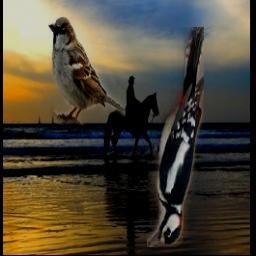Sparrow: (48, 18, 126, 127)
Woodpecker: (148, 28, 205, 248)
